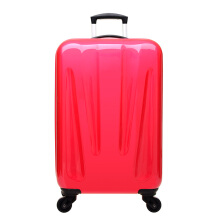luggage: (53, 11, 165, 215)
